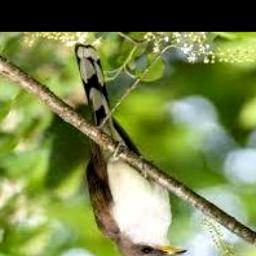Cuckoo: (75, 44, 187, 256)
